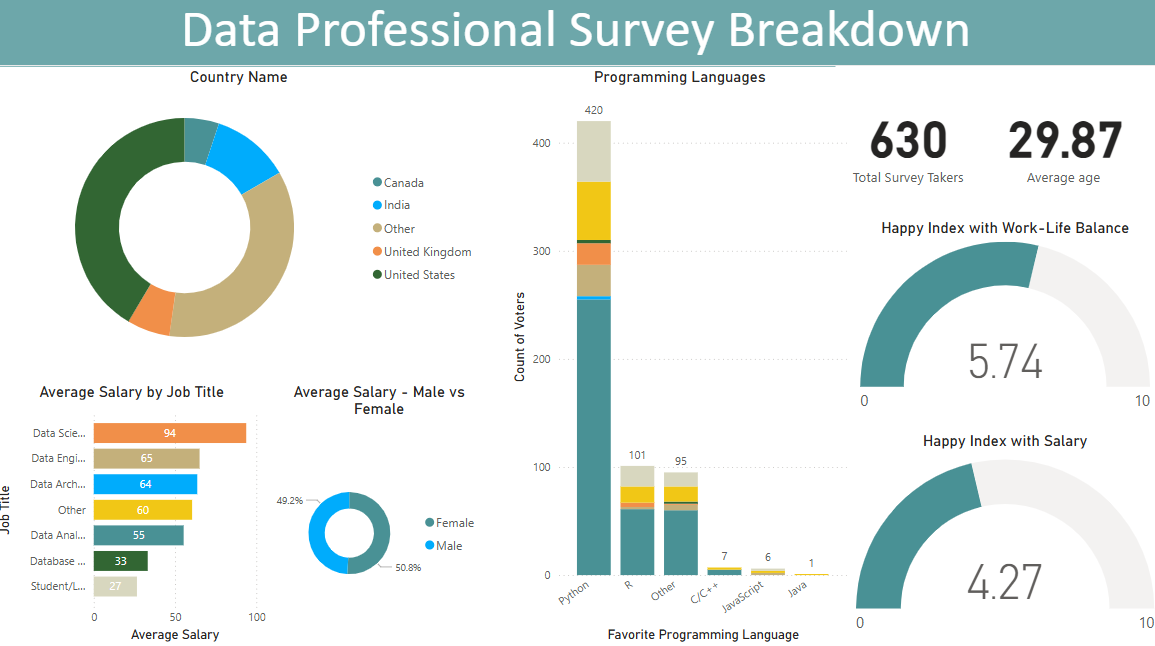

The page's visual inventory and layout, read from the dashboard file:
{"tool":"powerbi","page":{"name":"Page 1","canvas":[1280,720],"ordinal":0},"visuals":[{"type":"textbox","box":[0,0,1280,82.9],"z":0},{"type":"card","fields":{"Values":["CountNonNull(Data Professional Survey.Unique ID)"]},"box":[924.3,82.9,160,167.1],"z":1000},{"type":"card","fields":{"Values":["Avg(Data Professional Survey.Q10 - Current Age)"]},"box":[1074.3,82.9,205.7,167.1],"z":2000},{"type":"barChart","title":"Average Salary by Job Title","fields":{"Category":["Data Professional Survey.Q1 - Which Title Best Fits your Current Role?.1"],"Y":["Avg(Data Professional Survey.Average Salary)"],"Series":["Data Professional Survey.Q1 - Which Title Best Fits your Current Role?.1"]},"box":[0,430,304.3,290],"z":3000},{"type":"columnChart","title":"Programming Languages","fields":{"Category":["Data Professional Survey.Q5 - Favorite Programming Language.1"],"Series":["Data Professional Survey.Q1 - Which Title Best Fits your Current Role?.1"],"Y":["CountNonNull(Data Professional Survey.Unique ID)"]},"box":[565.4,83.7,377.4,636.7],"z":4000},{"type":"donutChart","title":"Country  Name","fields":{"Y":["CountNonNull(Data Professional Survey.Q11 - Which Country do you live in?.1)"],"Series":["Data Professional Survey.Q11 - Which Country do you live in?.1"]},"box":[0,84.3,540,331.4],"z":5000},{"type":"gauge","title":"Happy Index with Work-Life Balance","fields":{"Y":["Avg(Data Professional Survey.Q6 - How Happy are you in your Current Position with the following? (Work/Life Balance))"],"MinValue":["Min(Data Professional Survey.Q6 - How Happy are you in your Current Position with the following? (Work/Life Balance))"],"MaxValue":["Max(Data Professional Survey.Q6 - How Happy are you in your Current Position with the following? (Work/Life Balance))"]},"box":[942.9,250,337.1,221.4],"z":6000},{"type":"gauge","title":"Happy Index with Salary","fields":{"Y":["Avg(Data Professional Survey.Q6 - How Happy are you in your Current Position with the following? (Salary))"],"MinValue":["Min(Data Professional Survey.Q6 - How Happy are you in your Current Position with the following? (Salary))"],"MaxValue":["Max(Data Professional Survey.Q6 - How Happy are you in your Current Position with the following? (Salary))"]},"box":[942.9,482.9,337.1,237.1],"z":7000},{"type":"donutChart","title":"Average Salary - Male vs Female","fields":{"Y":["Avg(Data Professional Survey.Average Salary)"],"Category":["Data Professional Survey.Q9 - Male/Female?"]},"box":[304.3,430,238.6,290],"z":8000}]}

Visuals, with their boxes in screenshot pixels (x1, y1, x2, y2), scaled from the page's 1280x720 canvas onto the 1155x646 screenshot:
textbox: 0,0,1154,74
card - CountNonNull(Data Professional Survey.Unique ID): 834,74,978,224
card - Avg(Data Professional Survey.Q10 - Current Age): 969,74,1154,224
"Average Salary by Job Title" barChart: 0,386,275,645
"Programming Languages" columnChart: 510,75,851,645
"Country  Name" donutChart: 0,76,487,373
"Happy Index with Work-Life Balance" gauge: 851,224,1154,423
"Happy Index with Salary" gauge: 851,433,1154,645
"Average Salary - Male vs Female" donutChart: 275,386,490,645
